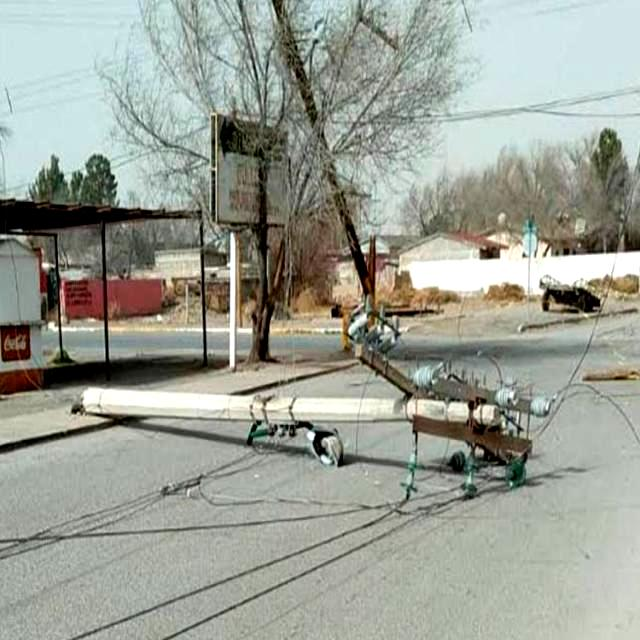Broken Pole: (74, 288, 554, 510)
